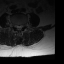CCS_normal: (18, 22, 19, 32)
LFS_normal: (22, 22, 24, 29)
LLS_normal: (20, 22, 22, 31)
RFS_normal: (13, 21, 15, 29)
RLS_normal: (15, 22, 18, 31)
